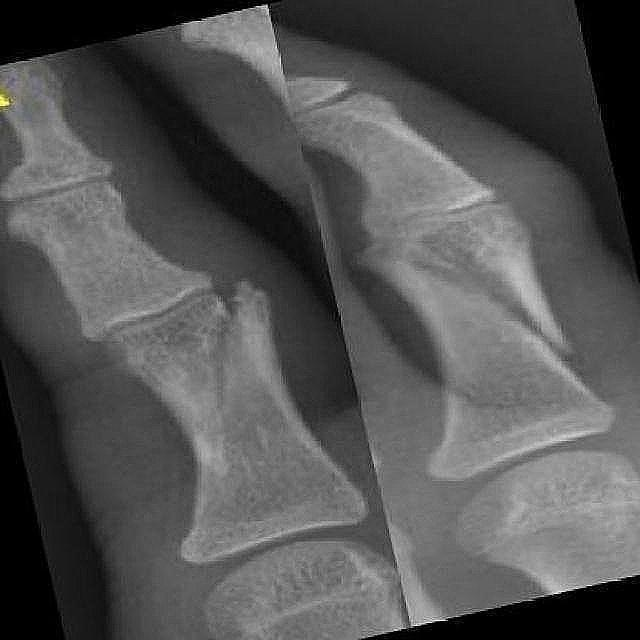bone: (349, 190, 591, 422), (115, 291, 324, 513)
